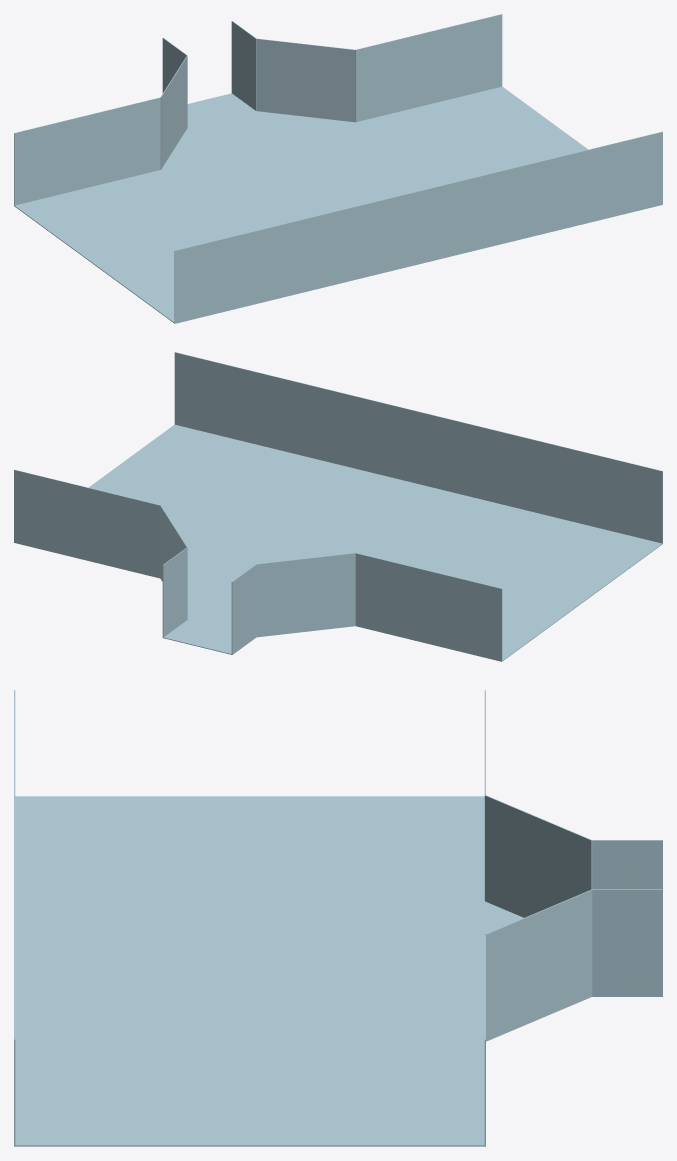
3 views of the same model, one above another, from view 1: azimuth 30°, elevation 25°; view 2: azimuth 150°, elevation 25°; view 3: azimuth 270°, elevation 25° (orthographic). The views are drawn at different scales.
Parts seen in each view (by area): view 1: L1-C04; view 2: L1-C04; view 3: L1-C04.
Part boxes in pixels (x1,y1,x2,y2): L1-C04: (14, 14, 662, 323); L1-C04: (14, 352, 662, 661); L1-C04: (14, 690, 662, 1146).
Size of the model in its own units: 1.4 by 0.2 by 1.1.
